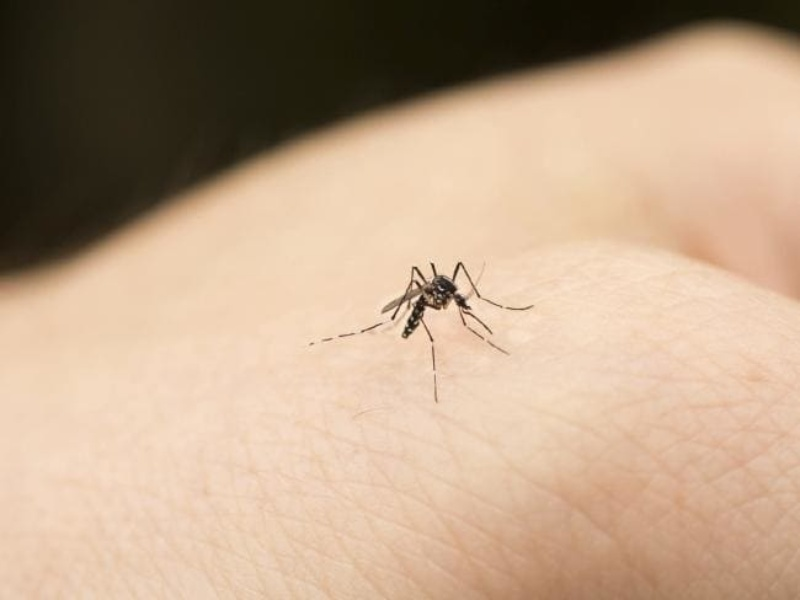dengue_mosquito: (346, 264, 504, 364)
